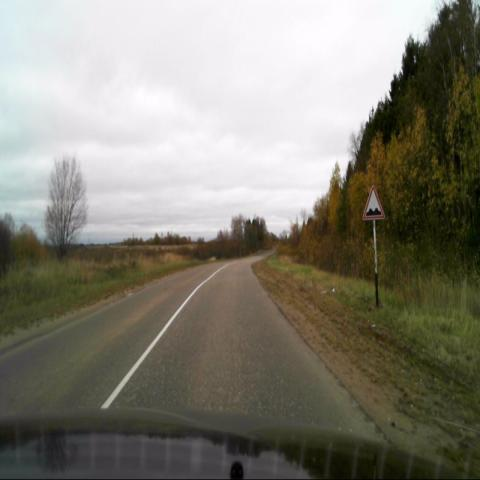1_16: (362, 184, 385, 220)
